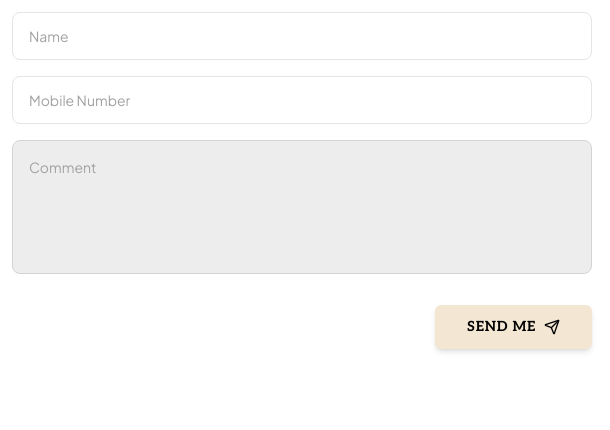
Test case: ContactForm › displays validation errors when submitting empty form
Click the button "Send Me". click: (514, 327)
box: x1=435 y1=305 x2=592 y2=349
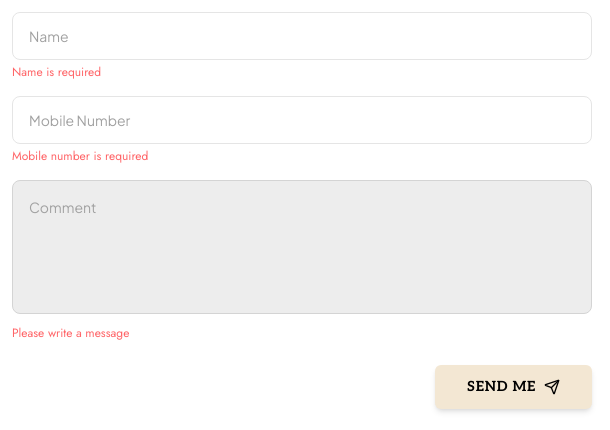
expect the text "Name is required" is shown: met, box x1=12 y1=63 x2=101 y2=81
expect the text "Mobile number is required" is shown: met, box x1=12 y1=147 x2=148 y2=165
expect the text "Please write a message" is shown: met, box x1=12 y1=324 x2=129 y2=342
